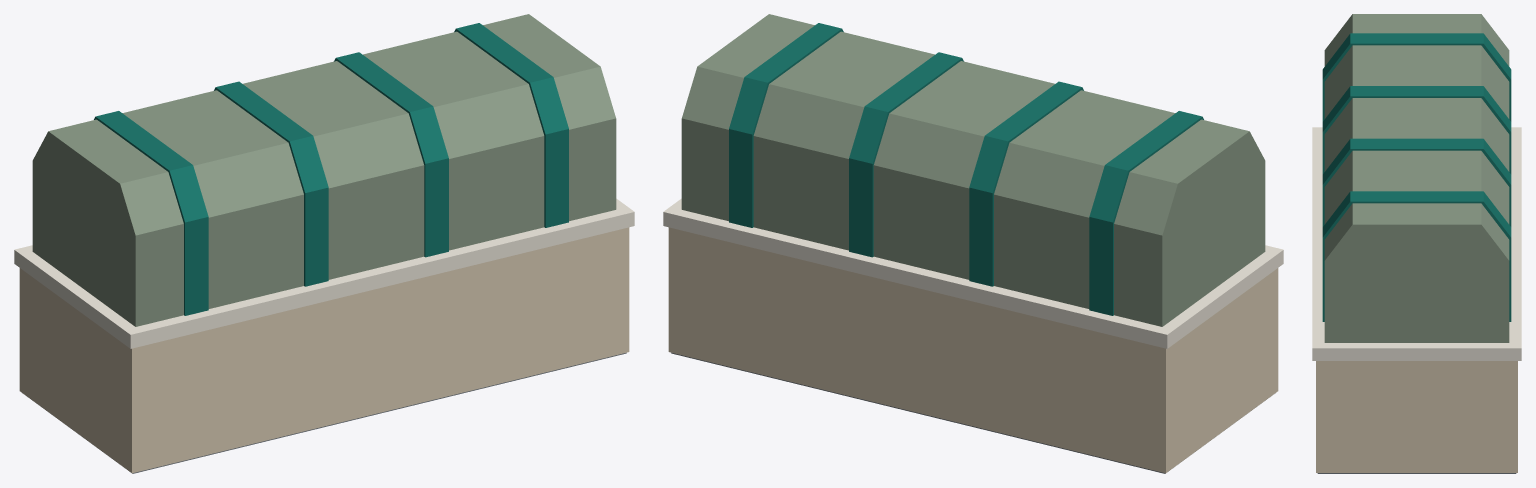
File: planter_3x1.glb
The picture shows the model from 3 angles, left to right: view 1: azimuth 30°, elevation 25°; view 2: azimuth 150°, elevation 25°; view 3: azimuth 270°, elevation 25°; orthographic projection. The views are drawn at different scales.
Parts seen in each view (by area): view 1: planter_3x1_mesh; view 2: planter_3x1_mesh; view 3: planter_3x1_mesh.
Boxes of the visible parts, <box> form: planter_3x1_mesh: <box>14,14,634,473</box>; planter_3x1_mesh: <box>663,14,1283,473</box>; planter_3x1_mesh: <box>1312,14,1521,473</box>.
Bounding box in the file's own units: 3 × 1.57 × 1.2.
Materials: 1 (1 with a texture image).
